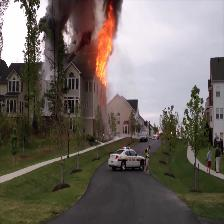fire: (96, 28, 112, 75)
smoke: (47, 2, 94, 46)
